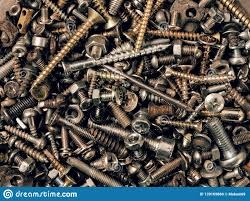metal: (26, 4, 104, 93), (54, 33, 175, 83), (99, 60, 197, 117), (203, 111, 248, 172), (143, 20, 224, 53), (63, 150, 128, 189), (79, 117, 129, 160), (5, 134, 49, 173), (155, 108, 207, 138), (3, 88, 40, 123), (2, 121, 48, 148), (120, 130, 153, 163), (65, 127, 95, 163), (206, 55, 235, 79), (225, 39, 249, 66)
